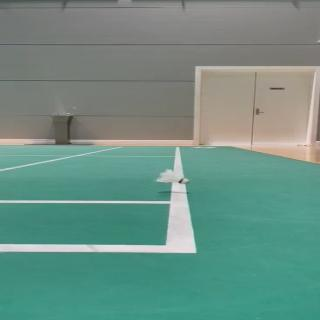Shuttle: (156, 169, 190, 184)
